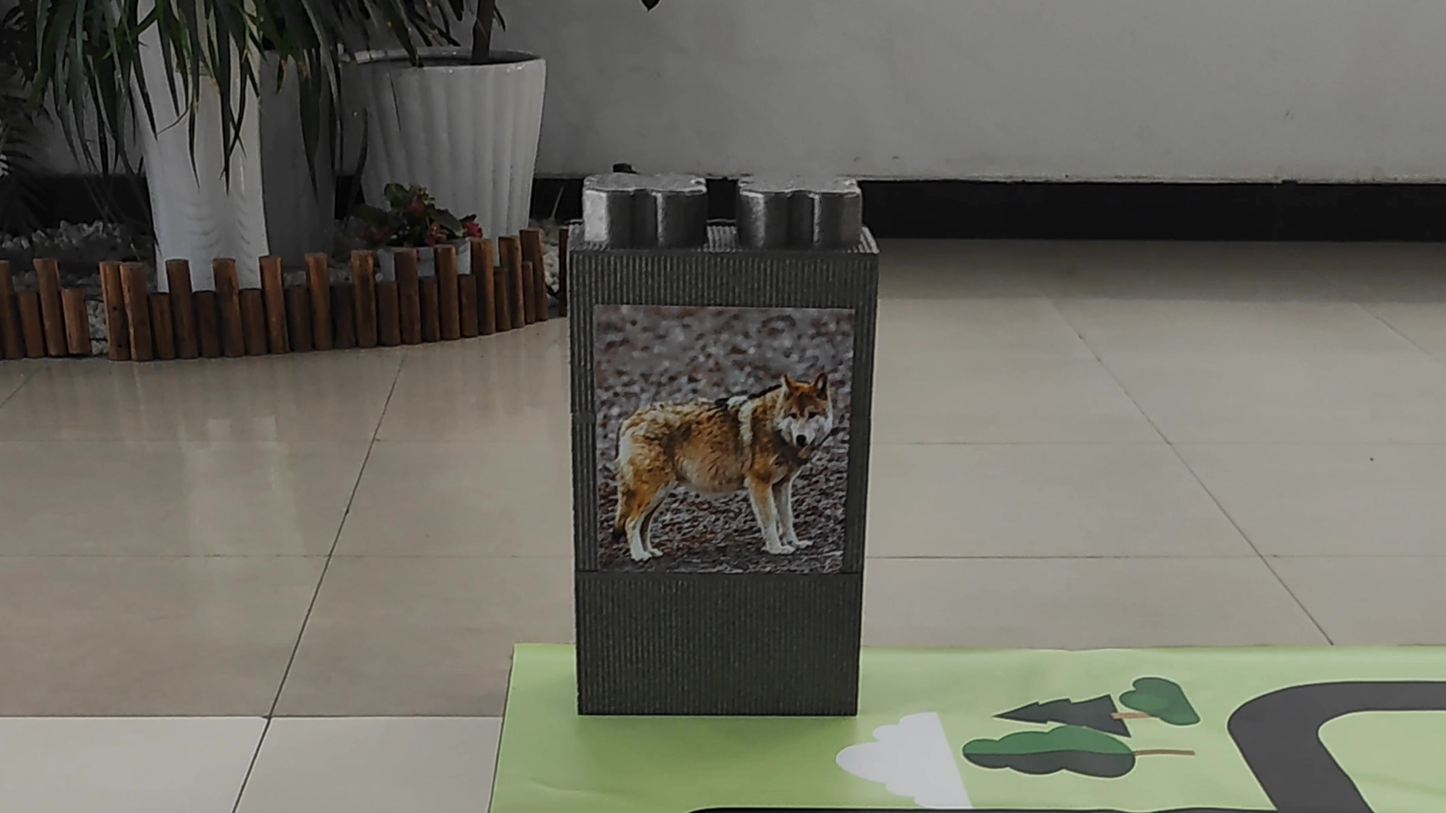wolf: (588, 312, 836, 566)
